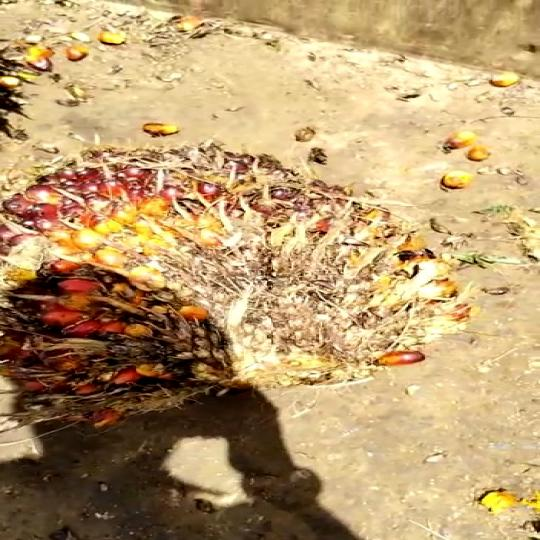masak: (0, 124, 477, 422)
